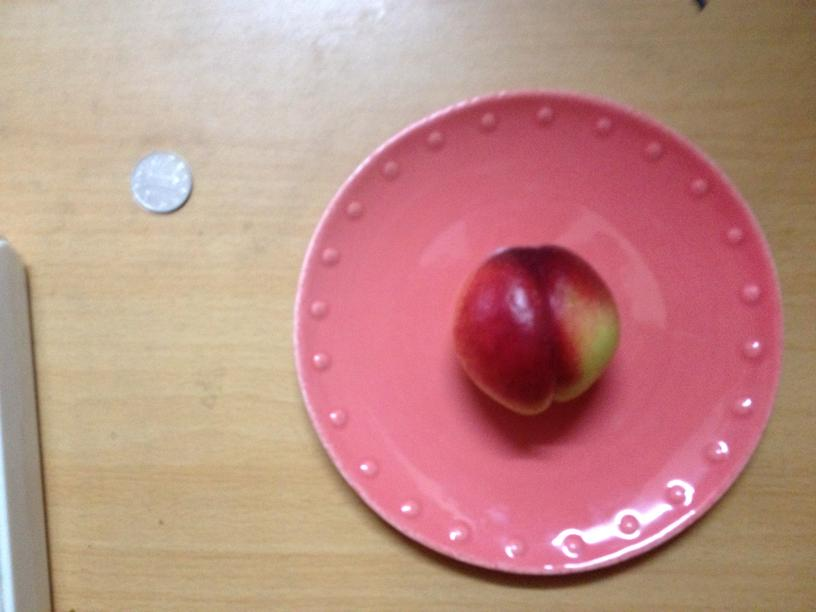coin: (129, 150, 192, 213)
peach: (453, 244, 618, 415)
